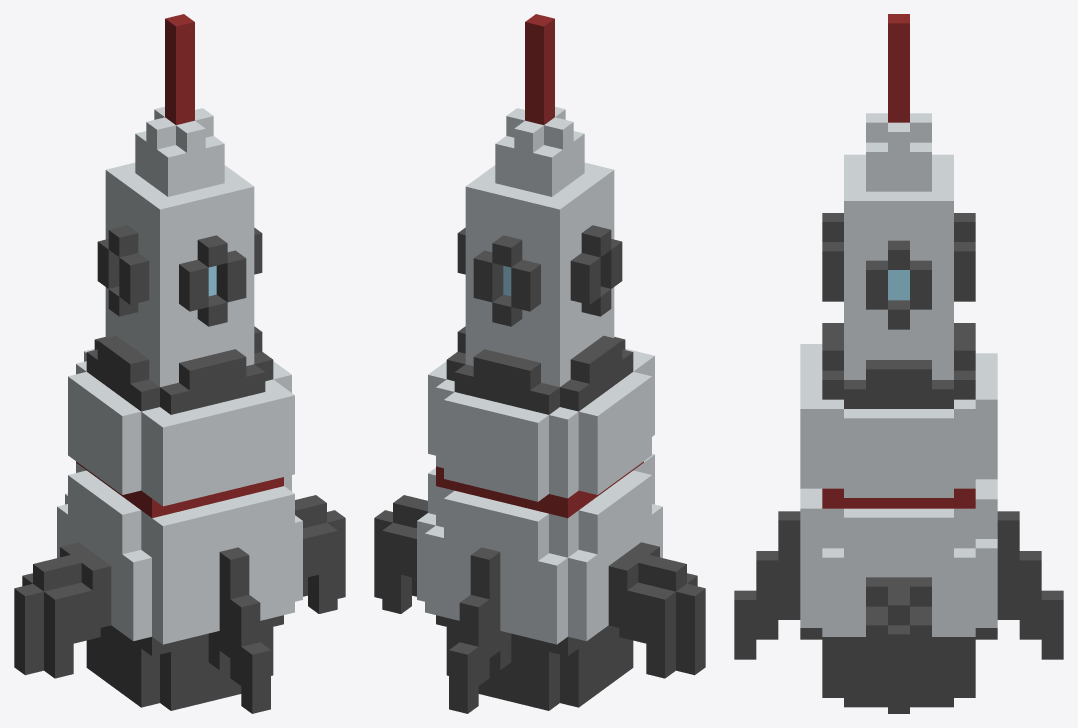
Rendered from RocketModel.fbx.
3 views of the same model, side by side, from view 1: azimuth 30°, elevation 25°; view 2: azimuth 150°, elevation 25°; view 3: azimuth 270°, elevation 25° (orthographic).
Parts seen in each view (by area): view 1: Box; view 2: Box; view 3: Box.
Boxes of the visible parts, x1,y1,x2,y2 form: Box: (14, 14, 345, 713); Box: (374, 14, 705, 713); Box: (734, 14, 1063, 713).
Bounding box in the file's own units: 17 × 33 × 15.
1 material, 1 textured.
